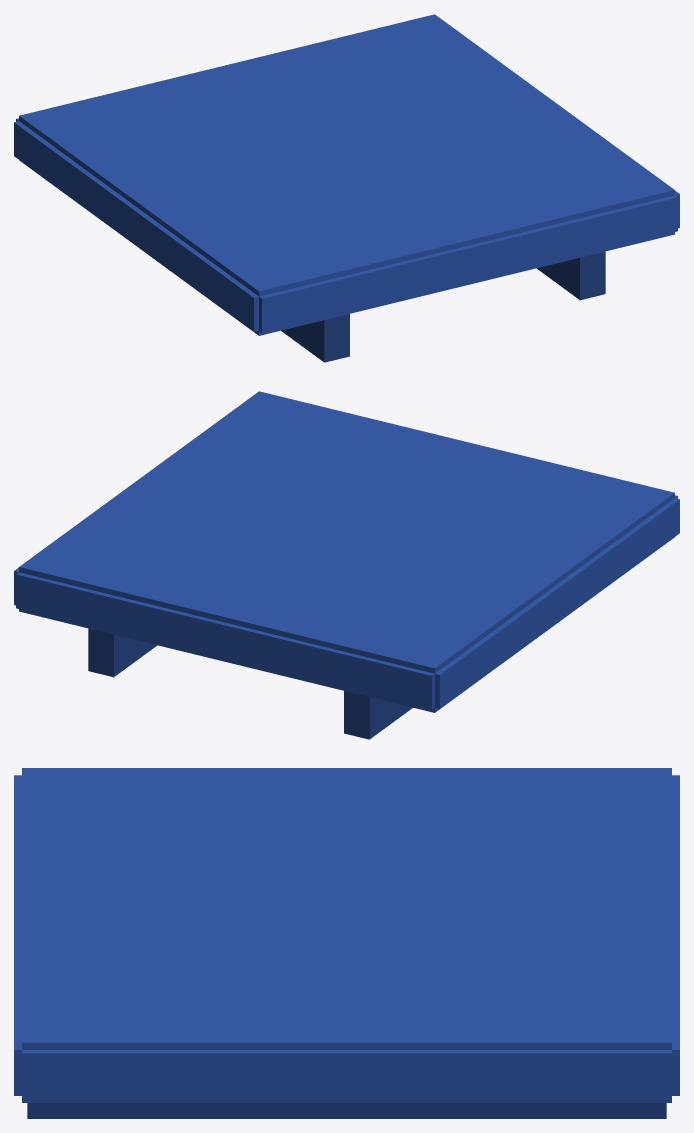
Rendered from mushroom_platform_v0.glb.
The picture shows the model from 3 angles, top to bottom: view 1: azimuth 30°, elevation 25°; view 2: azimuth 150°, elevation 25°; view 3: azimuth 270°, elevation 25°; orthographic projection. The views are drawn at different scales.
Parts seen in each view (by area): view 1: mushroom_platform_v0; view 2: mushroom_platform_v0; view 3: mushroom_platform_v0.
Boxes of the visible parts, bbox=[...] form: mushroom_platform_v0: bbox=[14, 14, 679, 362]; mushroom_platform_v0: bbox=[14, 391, 679, 739]; mushroom_platform_v0: bbox=[14, 768, 679, 1118].
Size of the model in its own units: 1 by 0.2 by 1.
